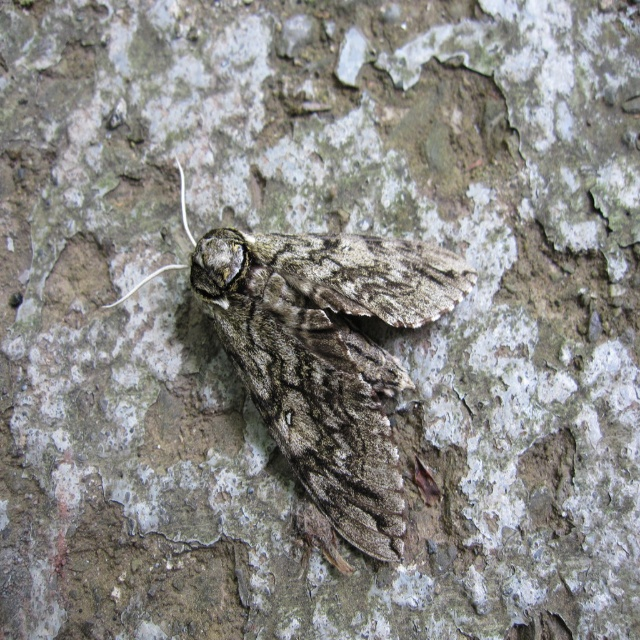Moths and butterflies: (101, 153, 479, 566)
